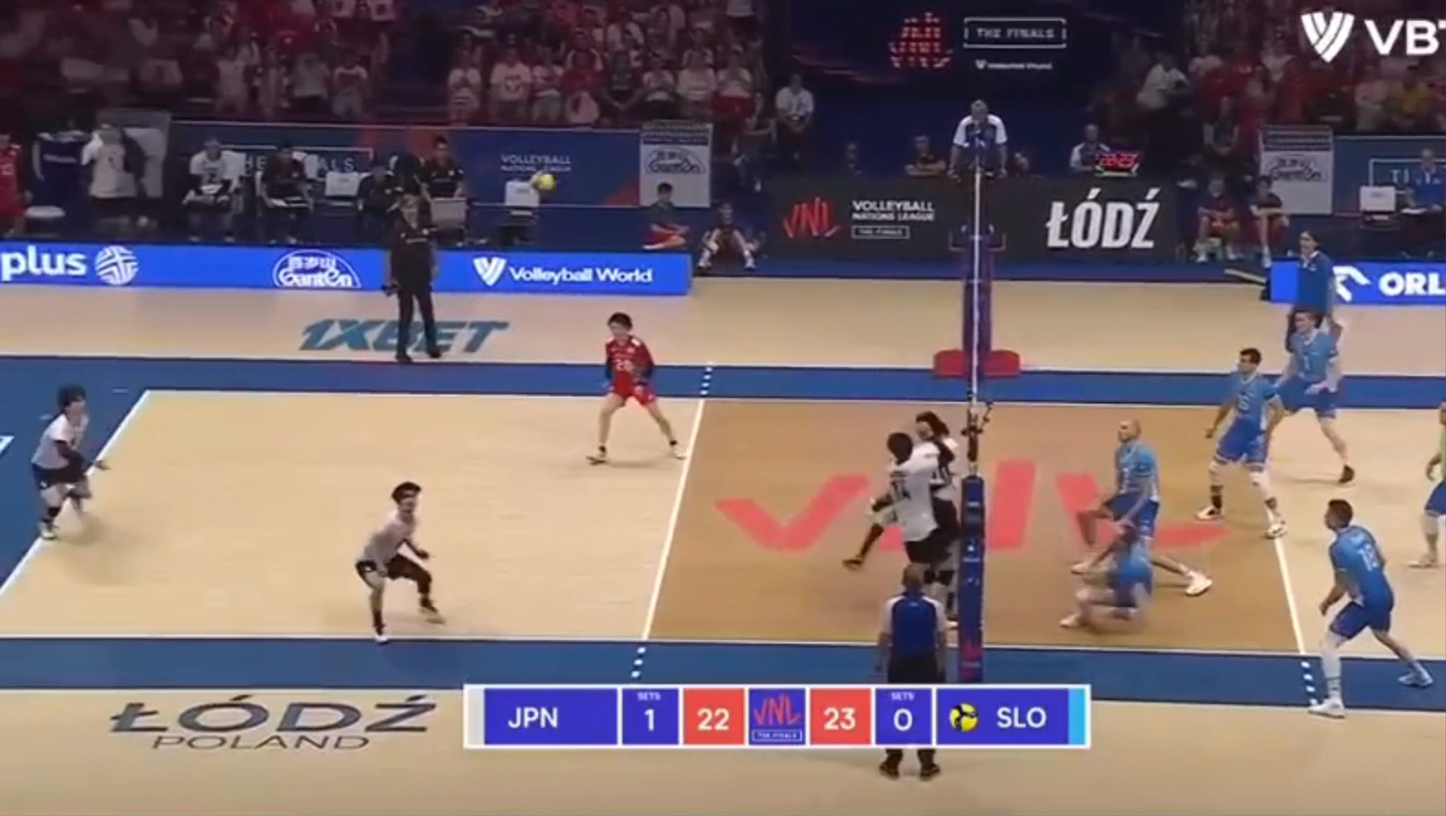ball: (530, 172, 556, 192)
player: (1309, 499, 1432, 719), (1077, 420, 1212, 595), (1196, 348, 1287, 539), (1277, 307, 1355, 484), (1061, 515, 1152, 626), (1413, 403, 1445, 568), (1071, 549, 1107, 575)
player 1: (589, 312, 684, 464), (354, 481, 443, 641), (886, 432, 956, 589), (30, 386, 91, 539), (914, 411, 959, 525)
referee: (383, 193, 442, 363), (947, 100, 1009, 261), (878, 564, 947, 682), (1292, 231, 1338, 335)
